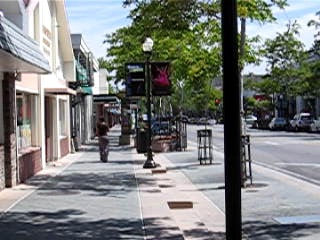person: (97, 116, 112, 163), (96, 116, 111, 163), (98, 116, 113, 163), (97, 115, 112, 162), (97, 117, 112, 164)
target_negative: (34, 88, 178, 143), (122, 87, 200, 141), (143, 58, 170, 187), (284, 66, 312, 104), (153, 205, 222, 214), (118, 124, 123, 216)
